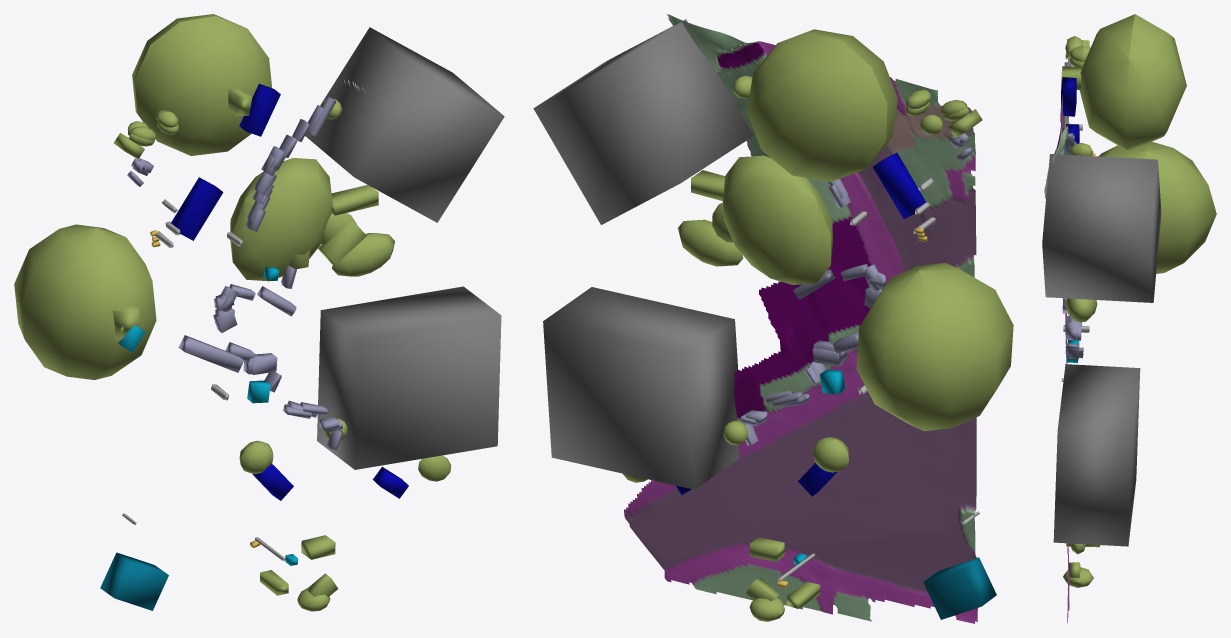
File: generated_low_1.glb
The picture shows the model from 3 angles, left to right: view 1: azimuth 30°, elevation 25°; view 2: azimuth 150°, elevation 25°; view 3: azimuth 270°, elevation 25°; orthographic projection. The views are drawn at different scales.
Bounding box in the file's own units: 50.12 × 65.11 × 19.53.
